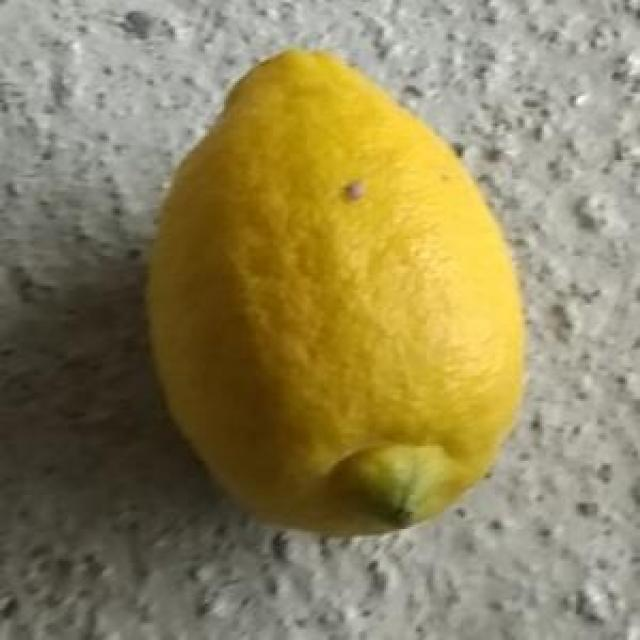lemon: (145, 42, 524, 544)
